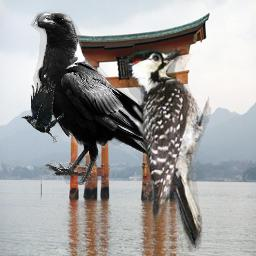Crow: (30, 9, 168, 185), (21, 80, 64, 143)
Woodpecker: (118, 46, 216, 252)
